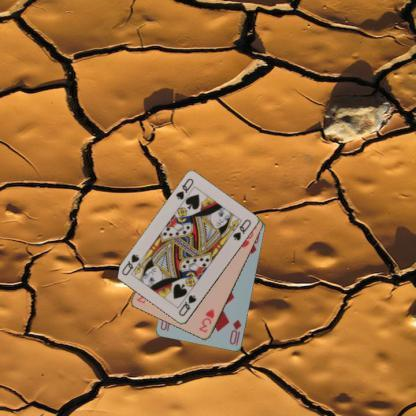10d: (227, 318, 243, 347)
3h: (196, 307, 216, 334)
Qs: (173, 176, 195, 202), (176, 292, 198, 317)
